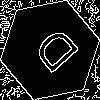D: (25, 25, 81, 82)
